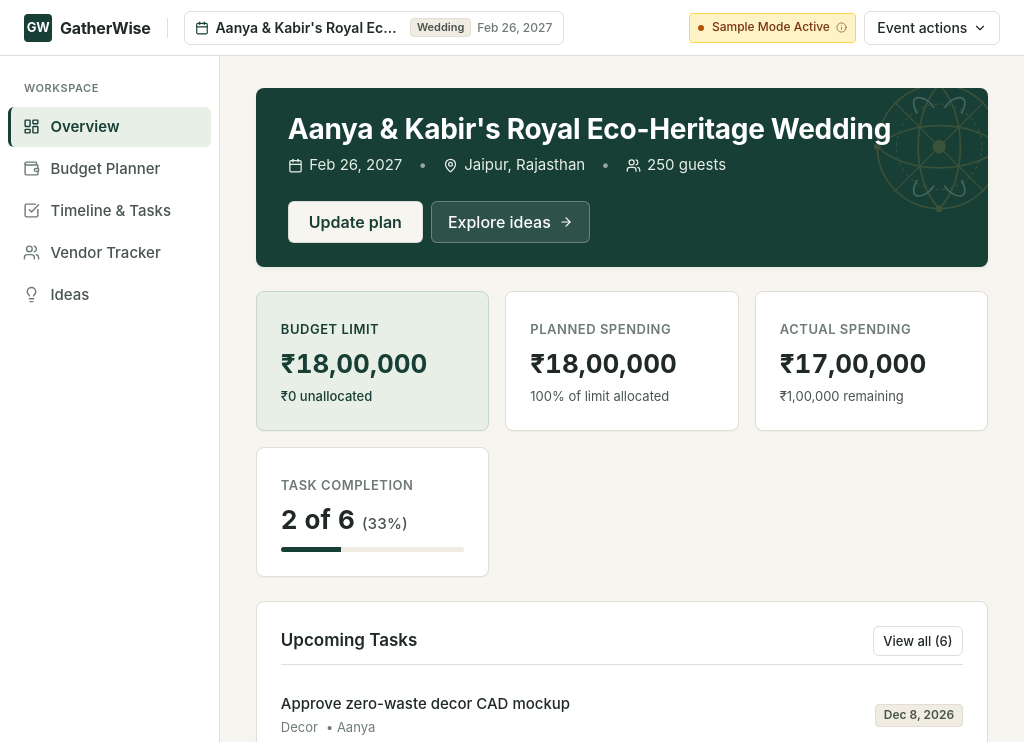
Scenario: GatherWise Integration & Component Workflows › navigates between planning modules via desktop sidebar
Note: Click Budget Planner tab
Click the button "Budget Planner" at (110, 168), box [8,148,211,188]
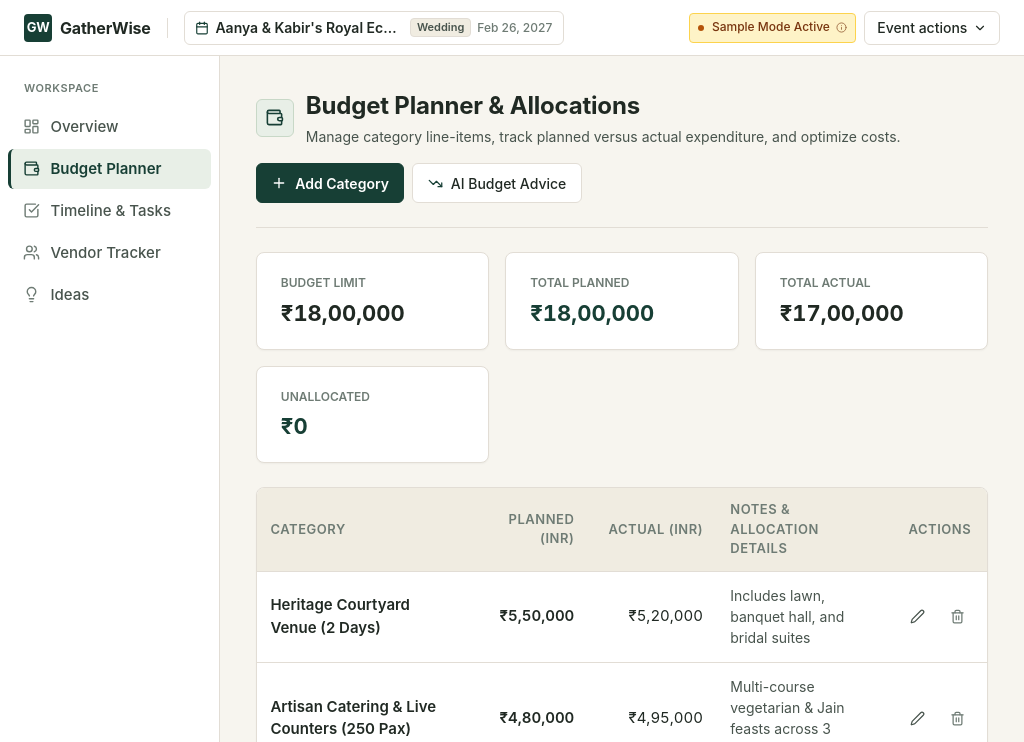
Check: the heading "Budget Planner & Allocations" is shown, box [306,91,640,120]
Note: Click Timeline & Tasks tab
Click the button "Timeline & Tasks" at (110, 210), box [8,190,211,230]
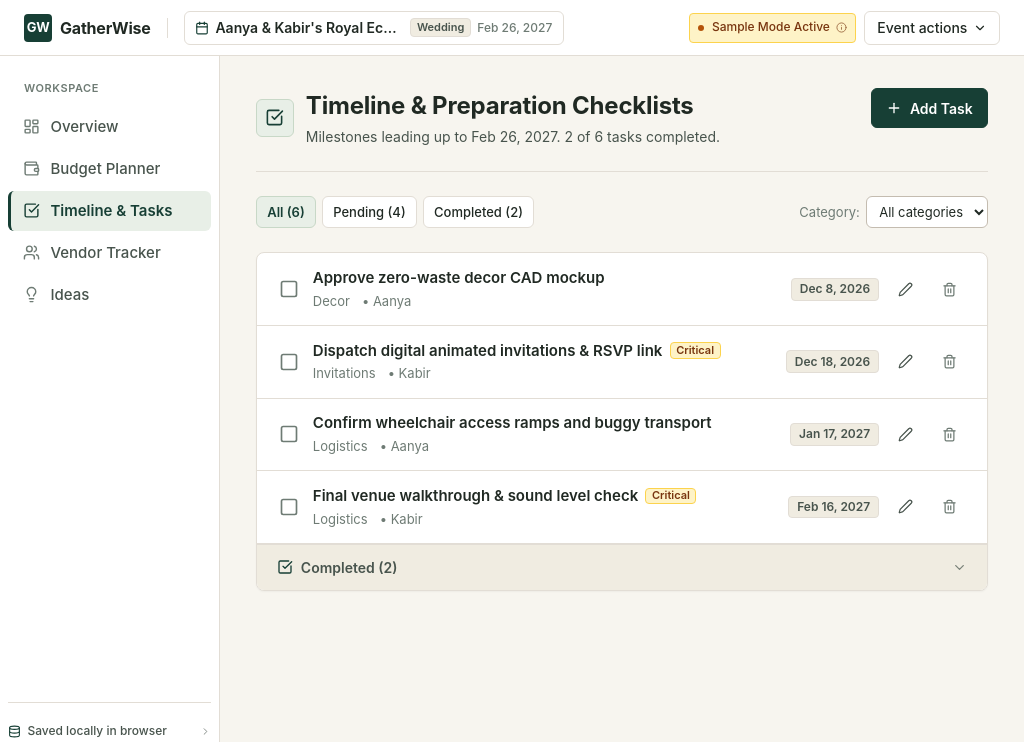
Check: the heading "Timeline & Preparation Checklists" is shown, box [306,88,720,124]
Note: Click Vendor Tracker tab
Click the button "Vendor Tracker" at (110, 252), box [8,232,211,272]
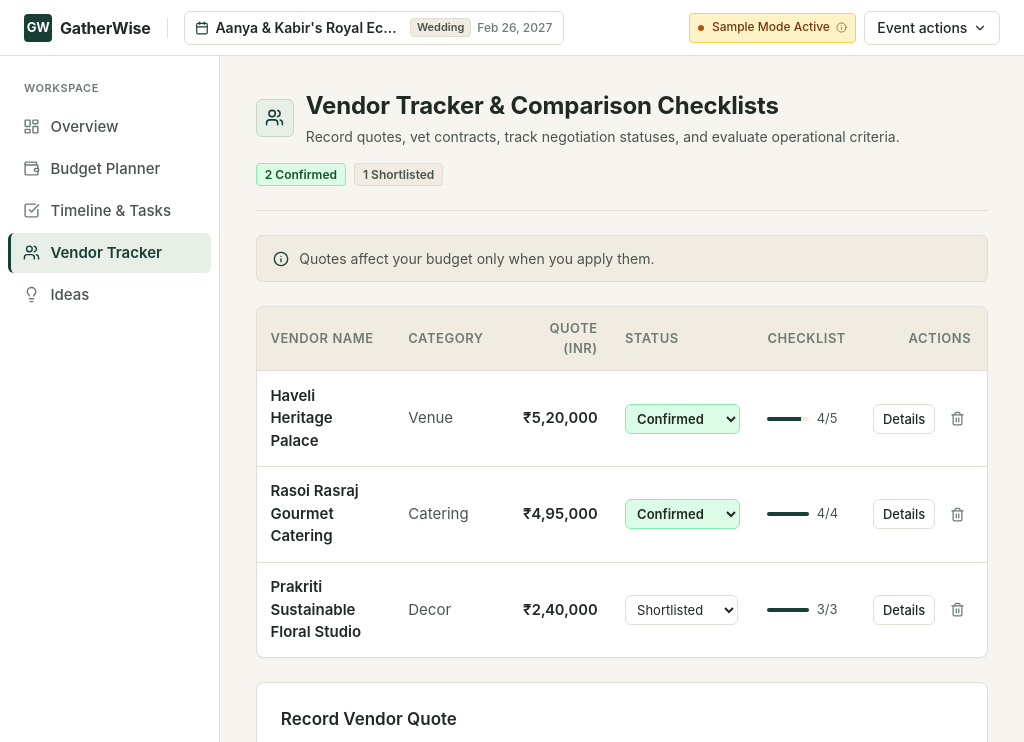
Check: the heading "Vendor Tracker & Comparison Checklists" is shown, box [306,91,779,120]
